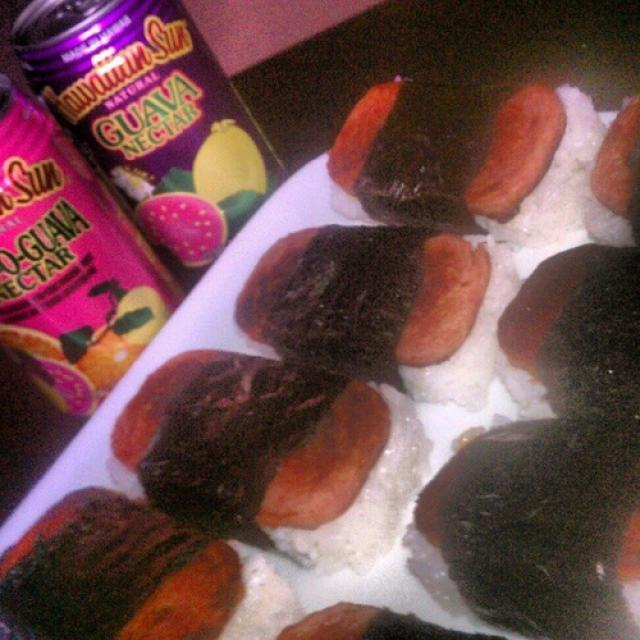寿司卷物: (13, 32, 630, 626)
